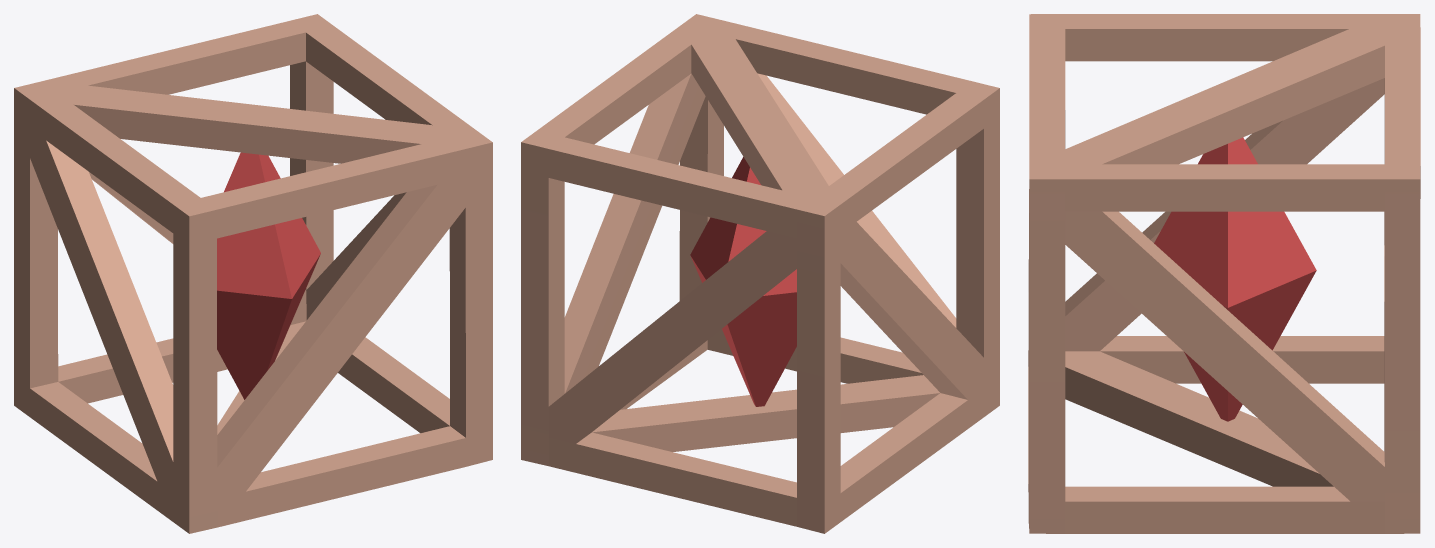
The model's file is gBGoalCrate_01.fbx.
The picture shows the model from 3 angles, left to right: view 1: azimuth 30°, elevation 25°; view 2: azimuth 150°, elevation 25°; view 3: azimuth 270°, elevation 25°; orthographic projection. The views are drawn at different scales.
Parts seen in each view (by area): view 1: Crate_01, Crystal_01; view 2: Crate_01, Crystal_01; view 3: Crate_01, Crystal_01.
Part boxes in pixels (x1,y1,x2,y2): Crate_01: (14,14,492,533); Crystal_01: (217,152,320,399); Crate_01: (521,14,999,533); Crystal_01: (690,157,796,406); Crate_01: (1028,14,1420,533); Crystal_01: (1154,137,1316,421).
Size of the model in its own units: 110 by 110 by 110.
